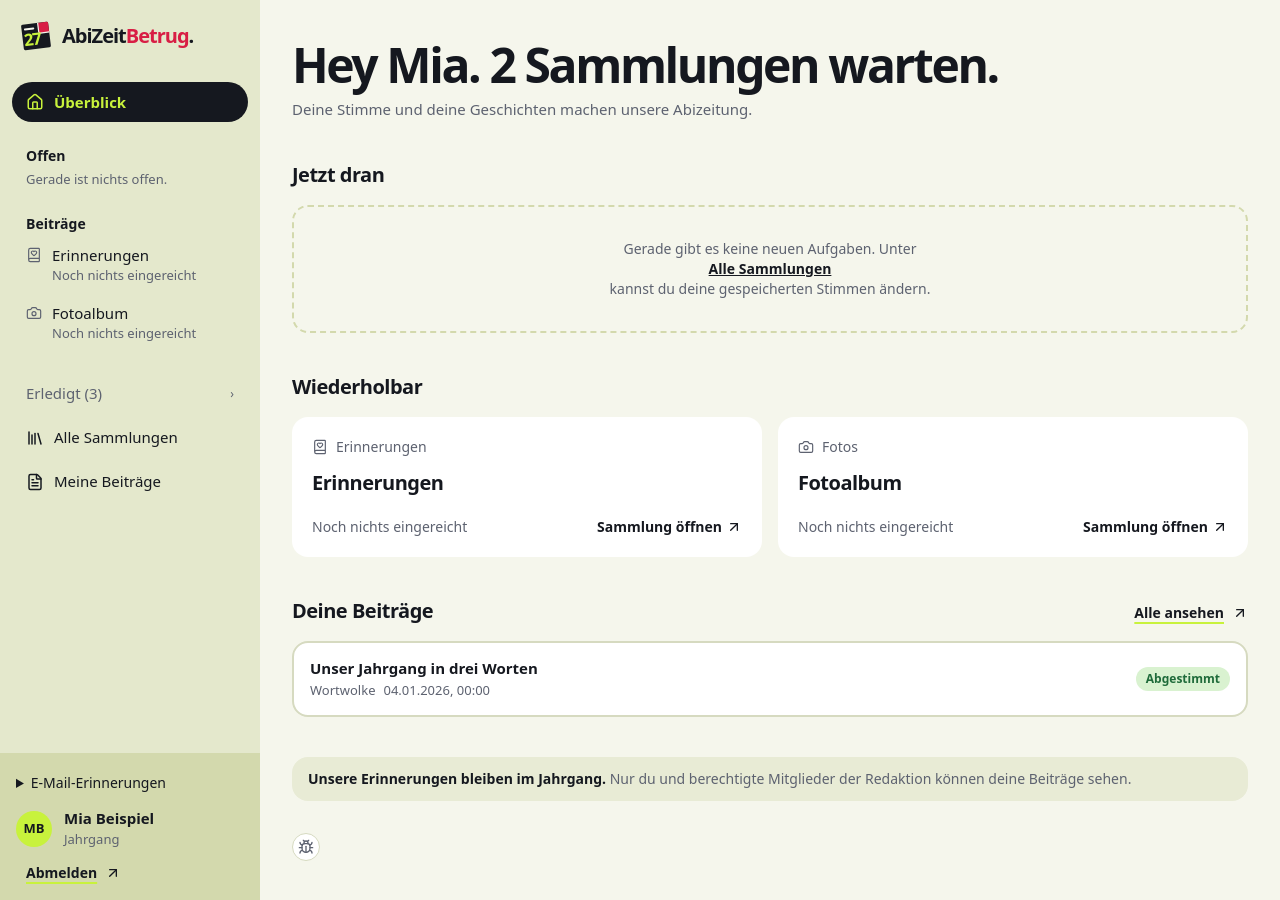
student contributions and ballot history › shows Alle ansehen for a poll-only student and opens the submitted ballot
Check: the text "Unser Jahrgang in drei Worten" is shown, box 310,658 -> 538,678
Click the link "Alle ansehen": click(1191, 613) 1134,603 -> 1248,623
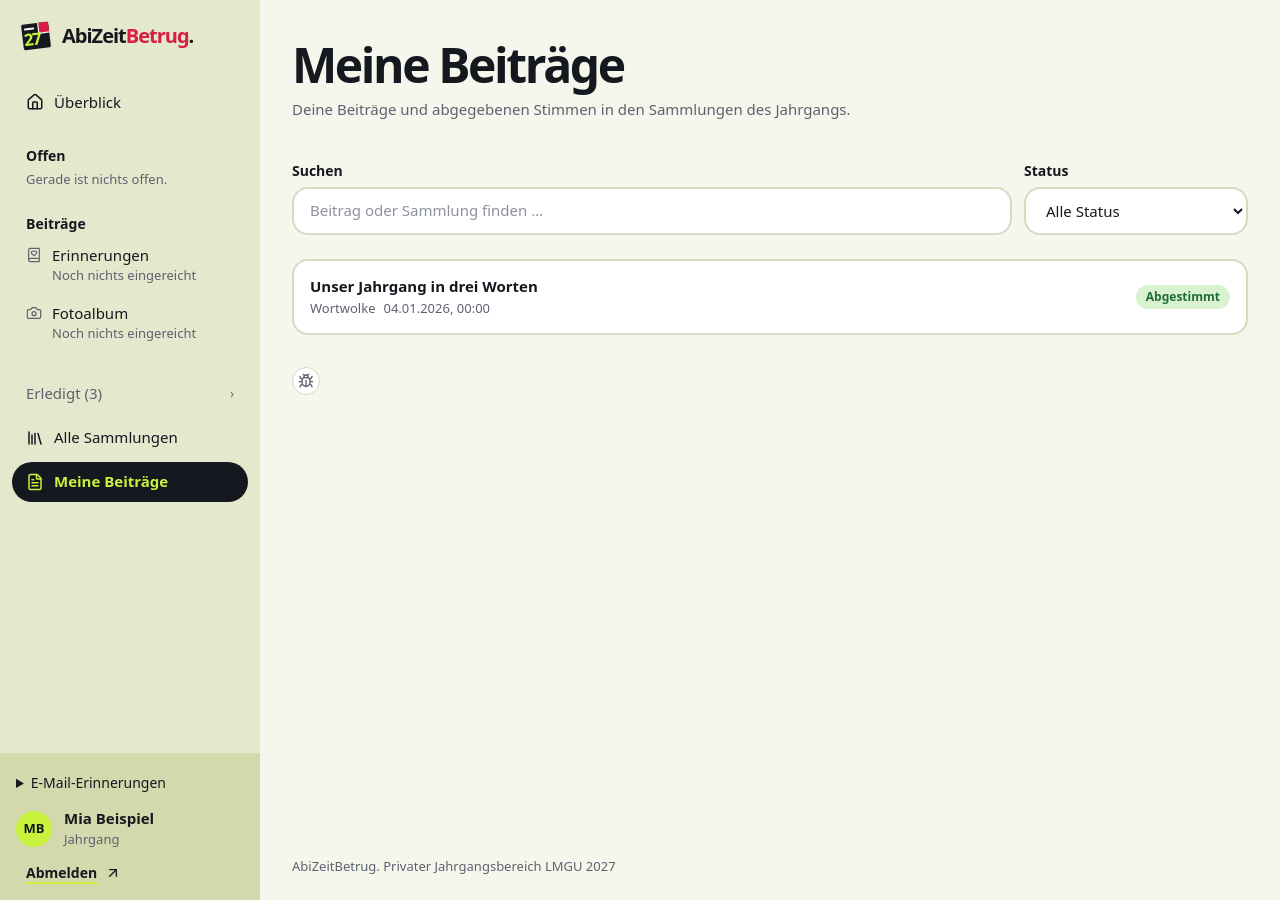
Check: the text "Unser Jahrgang in drei Worten" is shown, box 310,276 -> 538,296
Check: the heading "Meine Beiträge" is shown, box 292,32 -> 624,97
